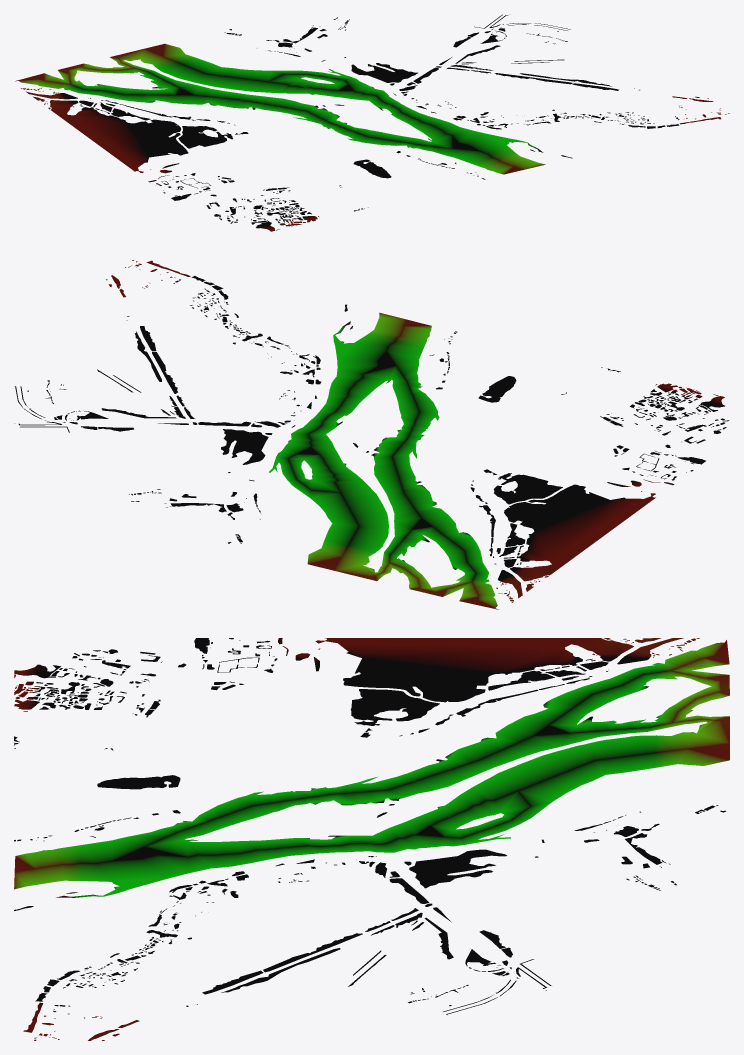
The model's file is SM_River_Hanoi_01.fbx.
3 views of the same model, one above another, from view 1: azimuth 30°, elevation 25°; view 2: azimuth 150°, elevation 25°; view 3: azimuth 270°, elevation 25° (orthographic). The views are drawn at different scales.
Visible parts, largest first — view 1: SM_River_Hanoi_01; view 2: SM_River_Hanoi_01; view 3: SM_River_Hanoi_01.
Boxes of the visible parts, x1,y1,x2,y2 form: SM_River_Hanoi_01: (15, 14, 729, 231); SM_River_Hanoi_01: (14, 260, 729, 609); SM_River_Hanoi_01: (14, 638, 729, 1040).
Bounding box in the file's own units: 7188 × 1.01 × 5398.
